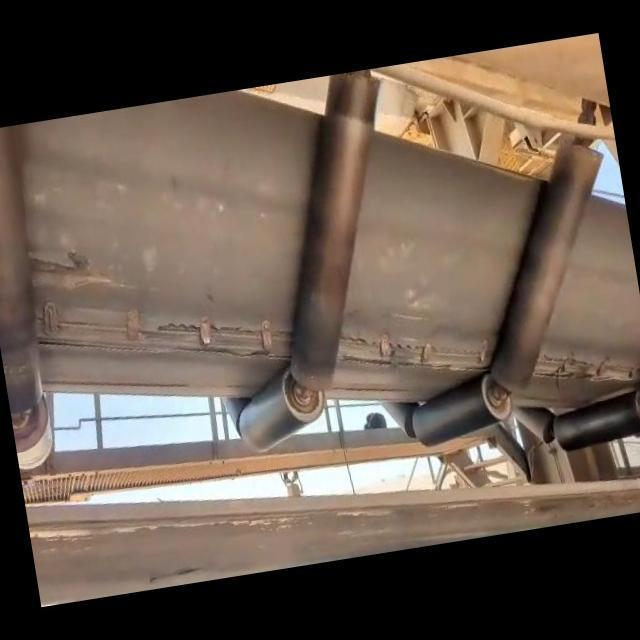Tear: (25, 293, 297, 368), (334, 327, 501, 380), (530, 347, 640, 388)
Wear: (25, 244, 132, 296)
